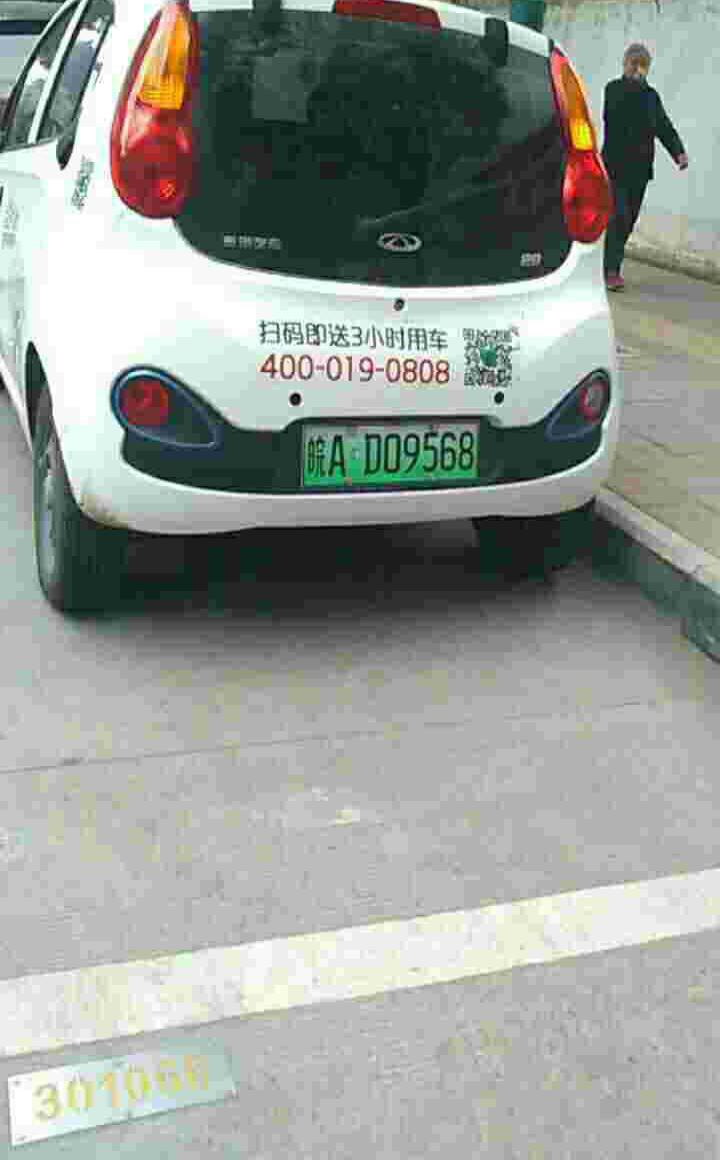car_green: (300, 411, 486, 485)
